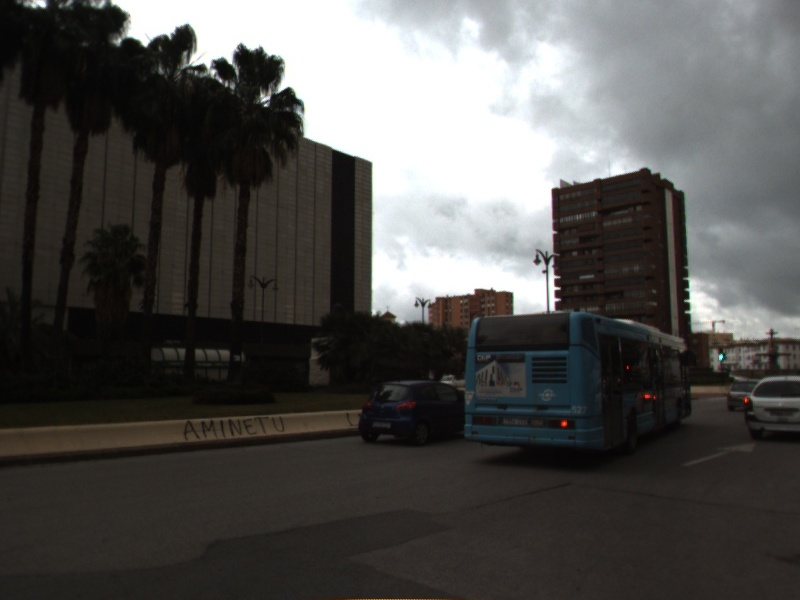STRAIGHT: (678, 440, 758, 469)
